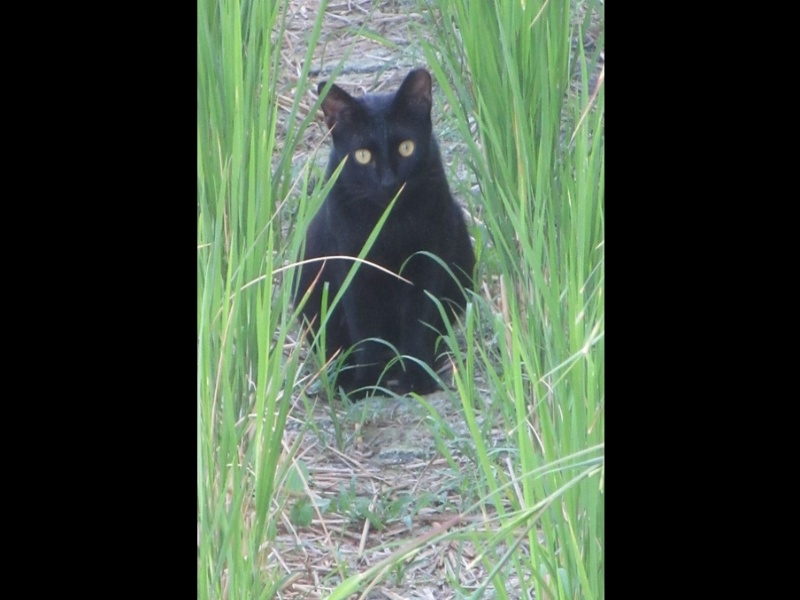cat: (274, 70, 482, 401)
